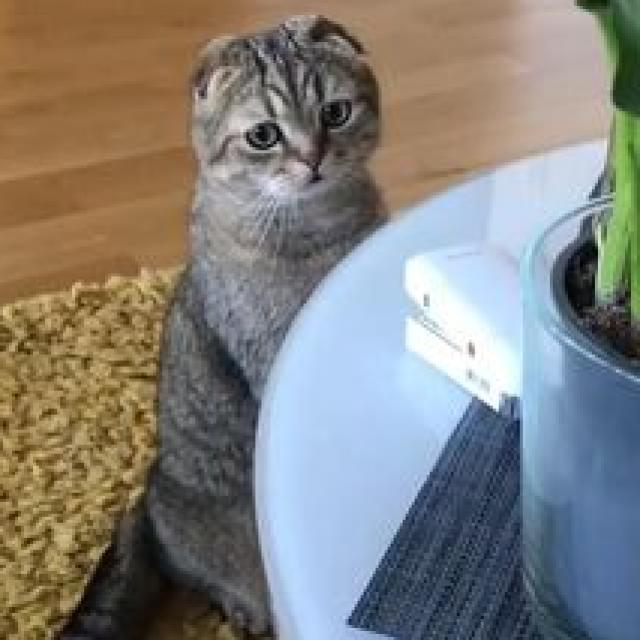Scottish Fold: (27, 3, 397, 640)
